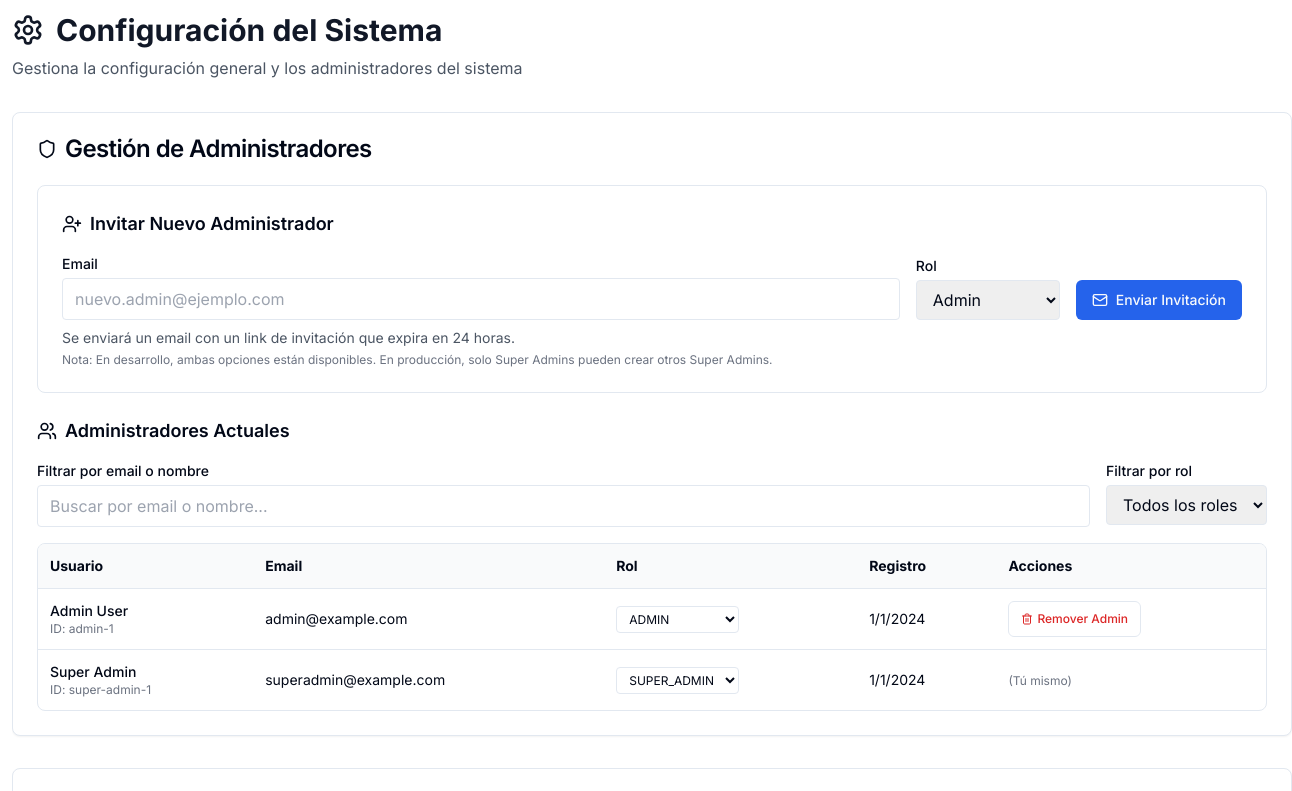
SettingsPage › handles invitation creation errors
Type "existing@example.com" into the field with placeholder "nuevo.admin@ejemplo.com" at point(481, 299), box 62,278 -> 900,320
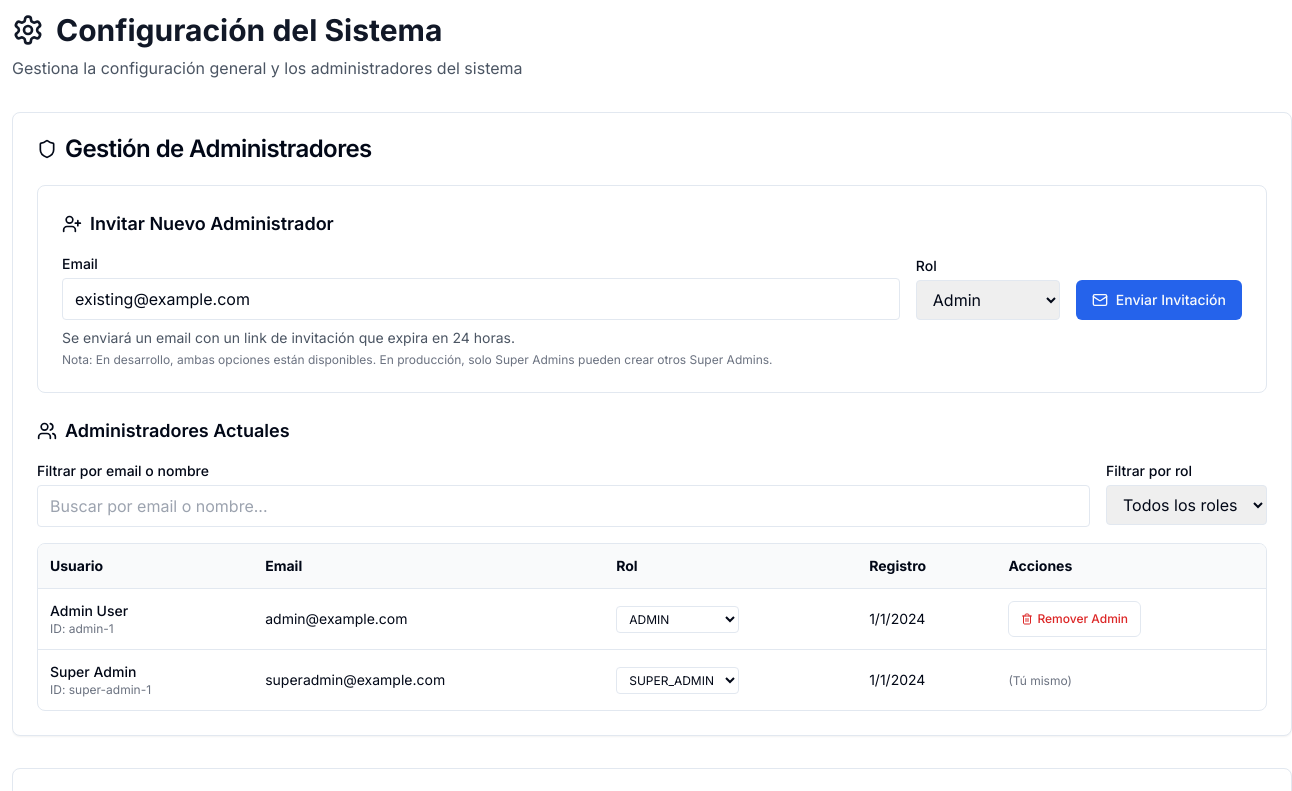
Click the button "Enviar Invitación" at point(1159, 300), box 1076,280 -> 1242,320
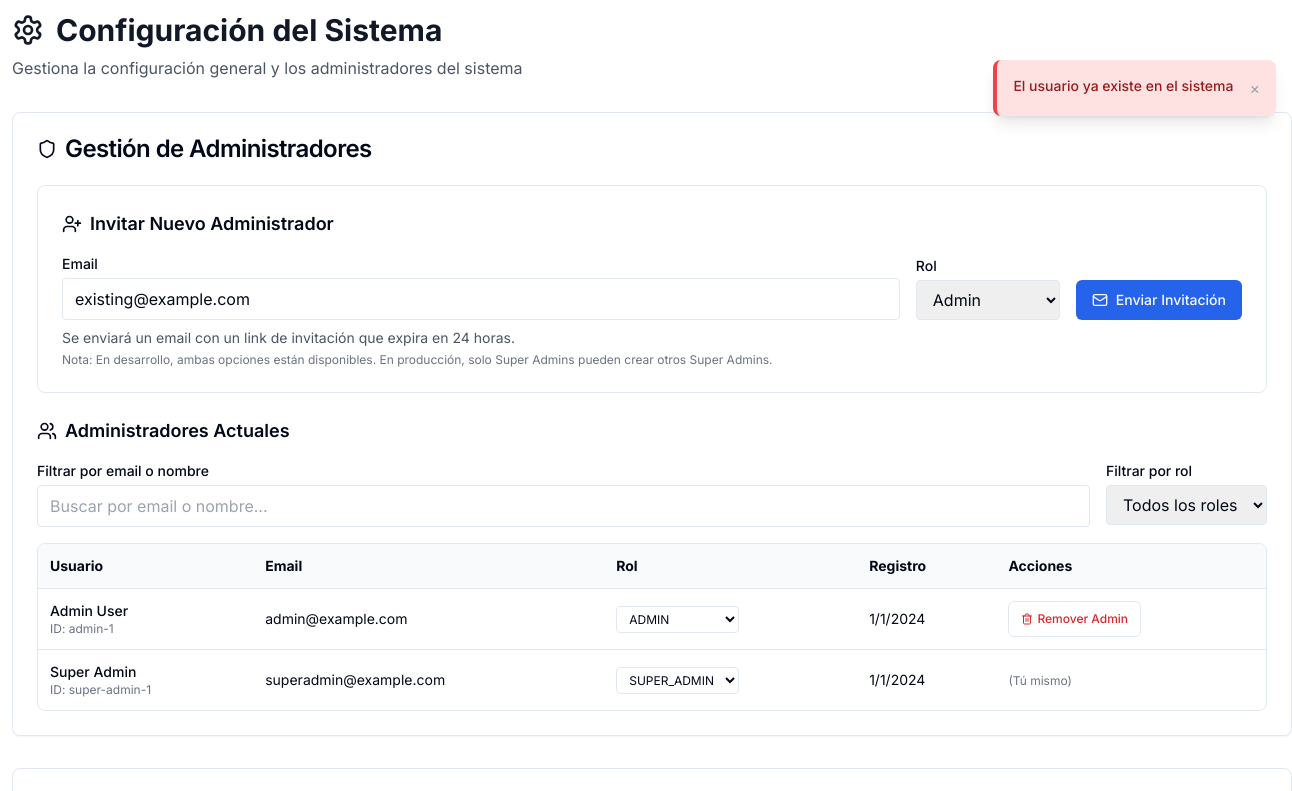
Result: the text "El usuario ya existe en el sistema" is shown at 1013,76 -> 1233,96
